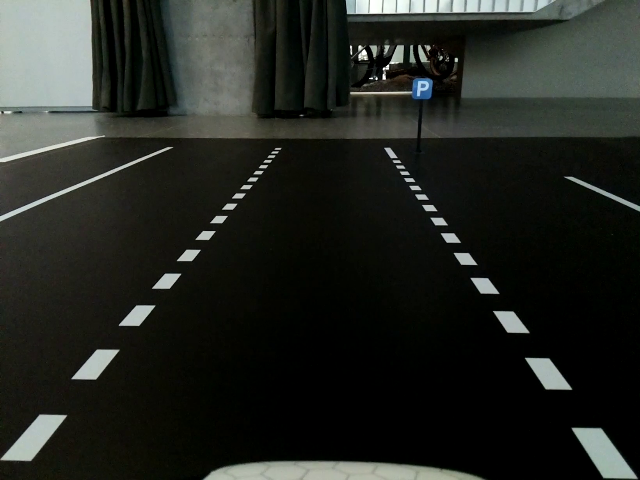park: (413, 79, 433, 98)
